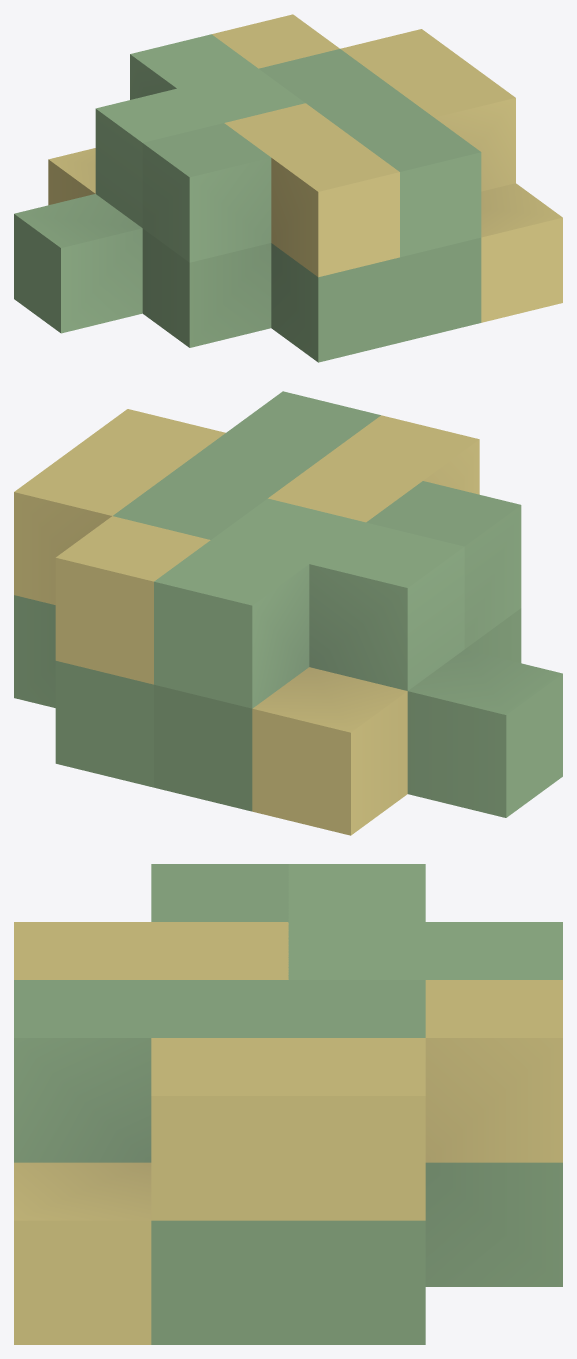
Rendered from decor_bush_c.glb.
The picture shows the model from 3 angles, top to bottom: view 1: azimuth 30°, elevation 25°; view 2: azimuth 150°, elevation 25°; view 3: azimuth 270°, elevation 25°; orthographic projection. The views are drawn at different scales.
Visible parts, largest first — view 1: decor_bush_c; view 2: decor_bush_c; view 3: decor_bush_c.
Part boxes in pixels (<box>): decor_bush_c: <box>14,14,562,362</box>; decor_bush_c: <box>14,391,562,835</box>; decor_bush_c: <box>14,864,562,1344</box>.
Size of the model in its own units: 0.625 by 0.25 by 0.5.
